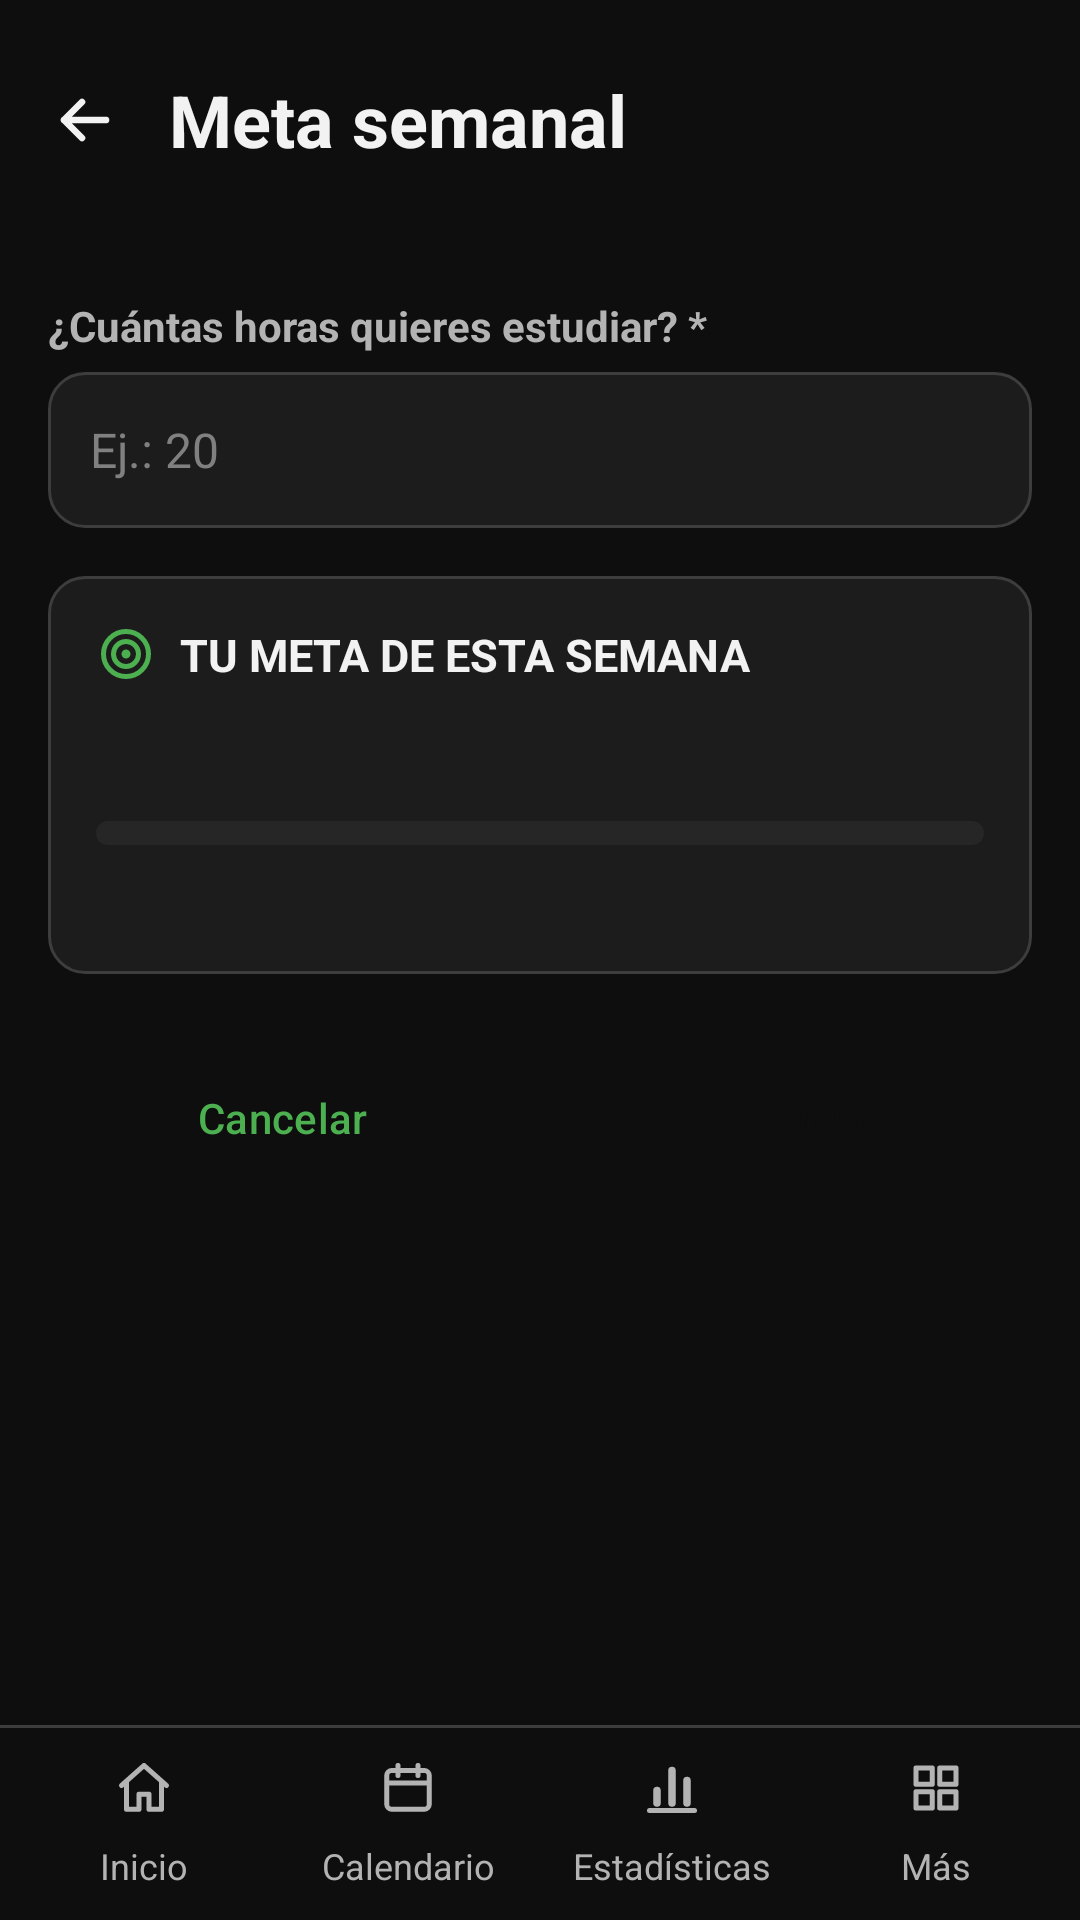

Where icons sit on this 1080w x 1920h app screen, as (left=x1, top=y1, right=x2, bottom=y2):
Volver: (left=60, top=98, right=110, bottom=142)
